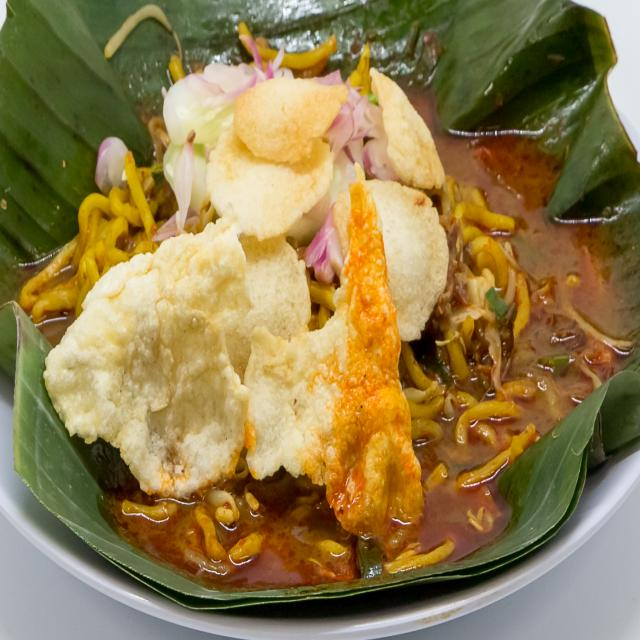Mie-Aceh: (19, 19, 605, 582)
